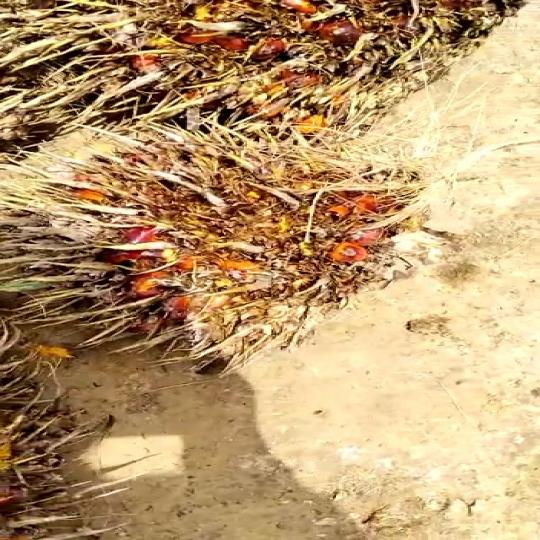terlalu masak: (0, 92, 505, 372)
